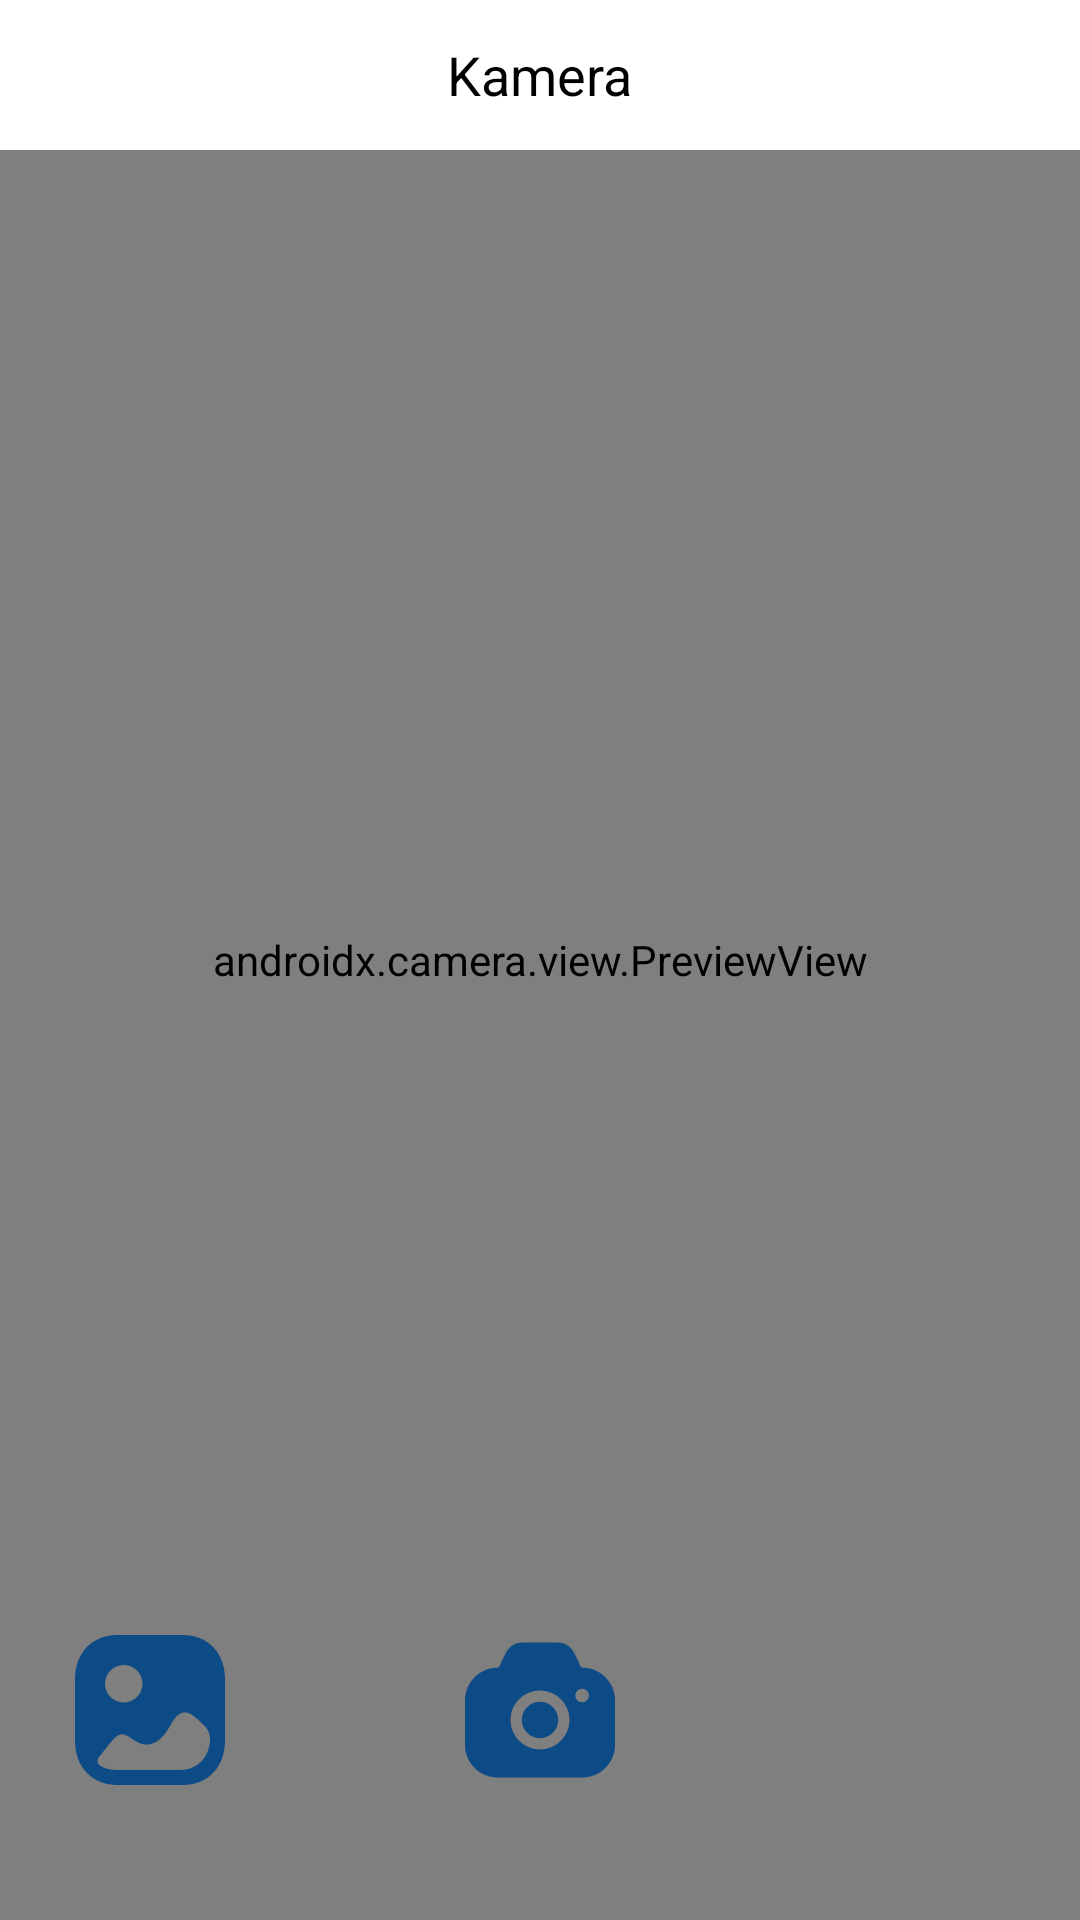

Icons on this 1080x1920 Android screen, each with its box as (x1, y1, x2, y2):
gallery: (75, 1635, 225, 1785)
